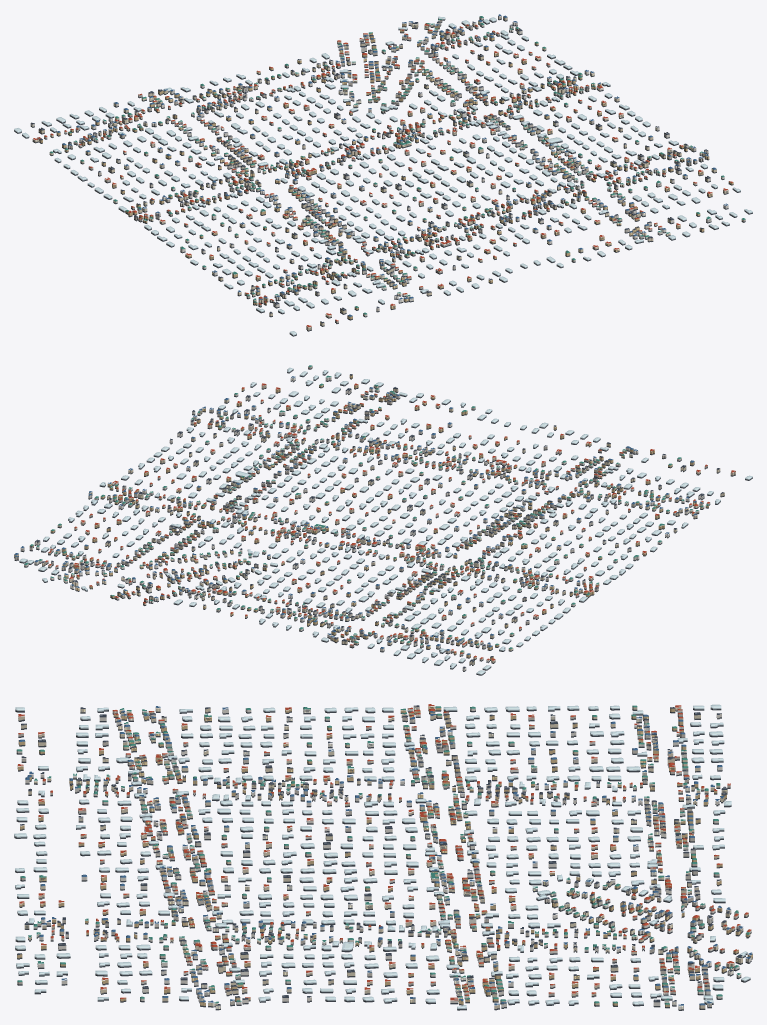
Rendered from osm_buildings_T_E02_N02.glb.
The picture shows the model from 3 angles, top to bottom: view 1: azimuth 30°, elevation 25°; view 2: azimuth 150°, elevation 25°; view 3: azimuth 270°, elevation 25°; orthographic projection. The views are drawn at different scales.
Visible parts, largest first — view 1: OSM_T_E02_N02_foundation, OSM_T_E02_N02_greenhouse_blend, OSM_T_E02_N02_wall_cream_stucco, OSM_T_E02_N02_wall_french_ochre, OSM_T_E02_N02_wall_warm_white, OSM_T_E02_N02_wall_pastel_sand, OSM_T_E02_N02_roof_terracotta, OSM_T_E02_N02_roof_mansard_slate, OSM_T_E02_N02_roof_mint_metal, OSM_T_E02_N02_roof_alpine_blue; view 2: OSM_T_E02_N02_foundation, OSM_T_E02_N02_greenhouse_blend, OSM_T_E02_N02_wall_cream_stucco, OSM_T_E02_N02_wall_french_ochre, OSM_T_E02_N02_wall_warm_white, OSM_T_E02_N02_wall_pastel_sand, OSM_T_E02_N02_roof_terracotta, OSM_T_E02_N02_roof_mansard_slate, OSM_T_E02_N02_roof_mint_metal, OSM_T_E02_N02_roof_alpine_blue; view 3: OSM_T_E02_N02_foundation, OSM_T_E02_N02_greenhouse_blend, OSM_T_E02_N02_wall_cream_stucco, OSM_T_E02_N02_wall_french_ochre, OSM_T_E02_N02_wall_warm_white, OSM_T_E02_N02_wall_pastel_sand, OSM_T_E02_N02_roof_terracotta, OSM_T_E02_N02_roof_mansard_slate, OSM_T_E02_N02_roof_mint_metal, OSM_T_E02_N02_roof_alpine_blue.
Boxes of the visible parts, x1,y1,x2,y2 form: OSM_T_E02_N02_foundation: (14, 18, 752, 336); OSM_T_E02_N02_greenhouse_blend: (14, 16, 752, 335); OSM_T_E02_N02_wall_cream_stucco: (32, 17, 728, 330); OSM_T_E02_N02_wall_french_ochre: (39, 23, 733, 319); OSM_T_E02_N02_wall_warm_white: (30, 17, 728, 316); OSM_T_E02_N02_wall_pastel_sand: (44, 16, 745, 322); OSM_T_E02_N02_roof_terracotta: (33, 23, 732, 327); OSM_T_E02_N02_roof_mansard_slate: (31, 21, 710, 323); OSM_T_E02_N02_roof_mint_metal: (50, 16, 745, 314); OSM_T_E02_N02_roof_alpine_blue: (57, 14, 727, 316); OSM_T_E02_N02_foundation: (14, 367, 752, 675); OSM_T_E02_N02_greenhouse_blend: (19, 367, 752, 674); OSM_T_E02_N02_wall_cream_stucco: (14, 385, 735, 664); OSM_T_E02_N02_wall_french_ochre: (29, 375, 708, 659); OSM_T_E02_N02_wall_warm_white: (20, 377, 704, 670); OSM_T_E02_N02_wall_pastel_sand: (14, 366, 710, 660); OSM_T_E02_N02_roof_terracotta: (45, 383, 735, 660); OSM_T_E02_N02_roof_mansard_slate: (30, 374, 724, 668); OSM_T_E02_N02_roof_mint_metal: (24, 365, 708, 651); OSM_T_E02_N02_roof_alpine_blue: (14, 376, 702, 654); OSM_T_E02_N02_foundation: (14, 708, 752, 1010); OSM_T_E02_N02_greenhouse_blend: (14, 704, 750, 1009); OSM_T_E02_N02_wall_cream_stucco: (18, 706, 748, 1008); OSM_T_E02_N02_wall_french_ochre: (17, 706, 752, 1006); OSM_T_E02_N02_wall_warm_white: (16, 708, 751, 1009); OSM_T_E02_N02_wall_pastel_sand: (17, 706, 743, 1006); OSM_T_E02_N02_roof_terracotta: (18, 704, 751, 1000); OSM_T_E02_N02_roof_mansard_slate: (17, 705, 742, 1005); OSM_T_E02_N02_roof_mint_metal: (16, 705, 749, 1004); OSM_T_E02_N02_roof_alpine_blue: (19, 706, 752, 1005).
Size of the model in its own units: 1909 by 36.92 by 1949.
